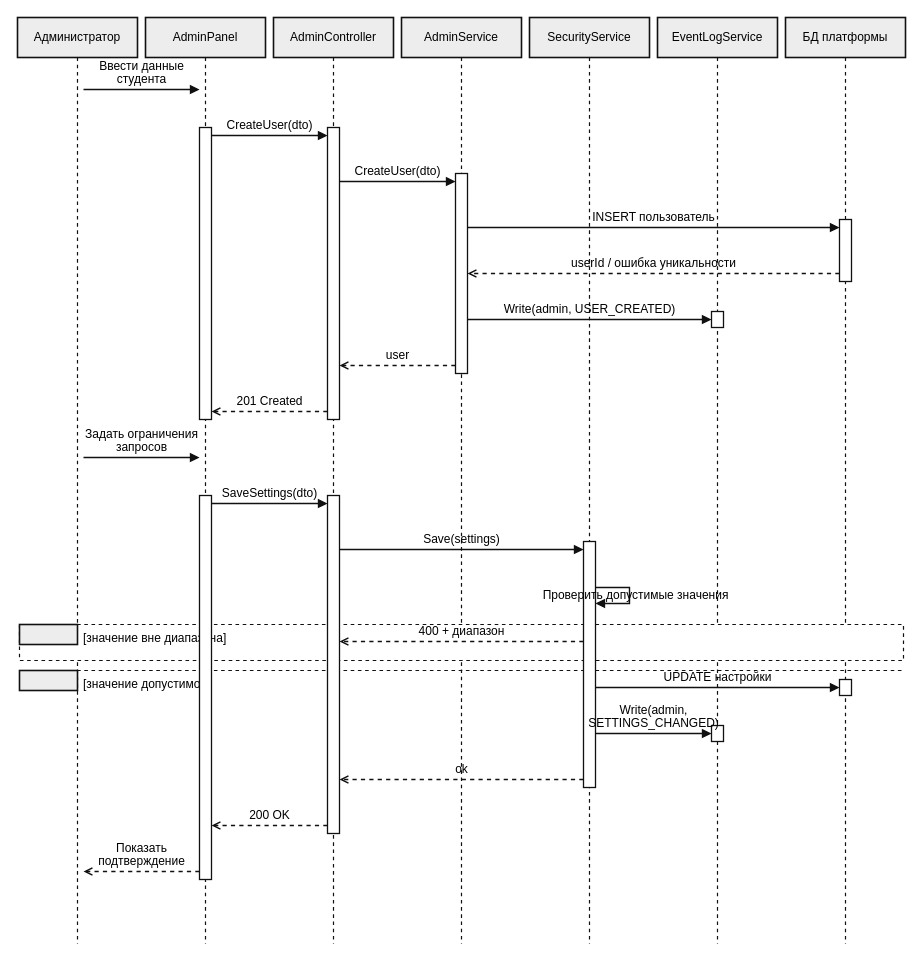
The diagram is 924 pixels wide and 963 high, and some of its shapes have lost their labels. The shapes that lost their labels are listed below. From the top down, each one's centre as x and y in pixels, then its label:
point 48,634: alt
point 48,680: else
